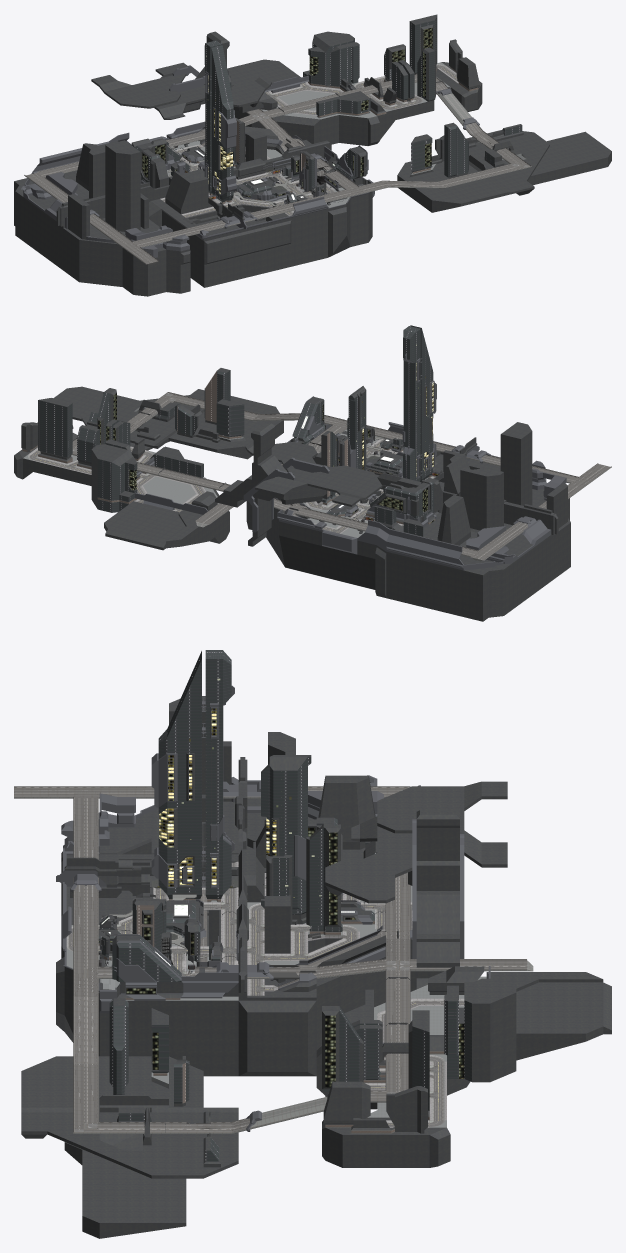
Rendered from mapshalo_2campaigne3_smoke_and_mirrors.glb.
The picture shows the model from 3 angles, top to bottom: view 1: azimuth 30°, elevation 25°; view 2: azimuth 150°, elevation 25°; view 3: azimuth 270°, elevation 25°; orthographic projection. The views are drawn at different scales.
Visible parts, largest first — view 1: Object_18, Object_21, Object_37, Object_30, Object_31, Object_26, Object_28, Object_39, Object_34, Object_20, Object_32, Object_40; view 2: Object_18, Object_21, Object_37, Object_30, Object_31, Object_26, Object_28, Object_34, Object_39, Object_22, Object_20; view 3: Object_18, Object_21, Object_30, Object_37, Object_31, Object_28, Object_34, Object_26, Object_39, Object_40, Object_35, Object_10 (+2 smaller).
Part boxes in pixels (x1=…): Object_18: x1=14, y1=14, x2=611, y2=296; Object_21: x1=131, y1=15, x2=522, y2=202; Object_37: x1=21, y1=65, x2=492, y2=257; Object_30: x1=26, y1=75, x2=527, y2=264; Object_31: x1=24, y1=74, x2=531, y2=264; Object_26: x1=167, y1=62, x2=526, y2=216; Object_28: x1=160, y1=64, x2=458, y2=217; Object_39: x1=142, y1=27, x2=432, y2=196; Object_34: x1=162, y1=67, x2=457, y2=217; Object_20: x1=168, y1=67, x2=478, y2=206; Object_32: x1=169, y1=93, x2=471, y2=188; Object_40: x1=208, y1=75, x2=232, y2=194; Object_18: x1=14, y1=362, x2=570, y2=621; Object_21: x1=38, y1=325, x2=433, y2=536; Object_37: x1=134, y1=353, x2=566, y2=570; Object_30: x1=72, y1=394, x2=609, y2=559; Object_31: x1=71, y1=392, x2=611, y2=560; Object_26: x1=23, y1=407, x2=429, y2=537; Object_28: x1=28, y1=439, x2=433, y2=533; Object_34: x1=31, y1=439, x2=434, y2=533; Object_39: x1=98, y1=344, x2=434, y2=522; Object_22: x1=177, y1=371, x2=367, y2=496; Object_20: x1=22, y1=434, x2=435, y2=524; Object_18: x1=21, y1=696, x2=611, y2=1238; Object_21: x1=98, y1=650, x2=471, y2=1161; Object_30: x1=14, y1=788, x2=527, y2=1131; Object_37: x1=56, y1=685, x2=490, y2=1131; Object_31: x1=14, y1=786, x2=527, y2=1133; Object_28: x1=66, y1=861, x2=464, y2=1127; Object_34: x1=69, y1=862, x2=464, y2=1126; Object_26: x1=66, y1=885, x2=486, y2=1127; Object_39: x1=98, y1=678, x2=464, y2=1087; Object_40: x1=159, y1=708, x2=276, y2=886; Object_35: x1=117, y1=888, x2=438, y2=1122; Object_10: x1=98, y1=704, x2=526, y2=1023.
Bounding box in the file's own units: 635 × 235 × 394.
Materials: 40 (39 with a texture image).
